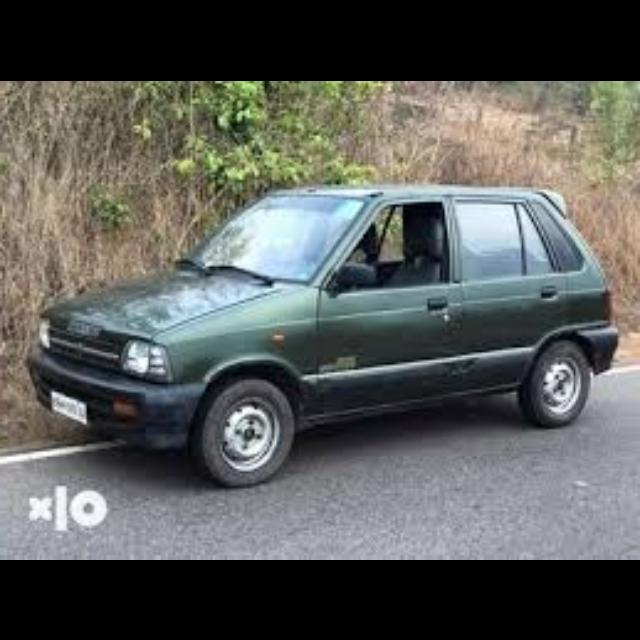vehicles: (24, 170, 620, 484)
